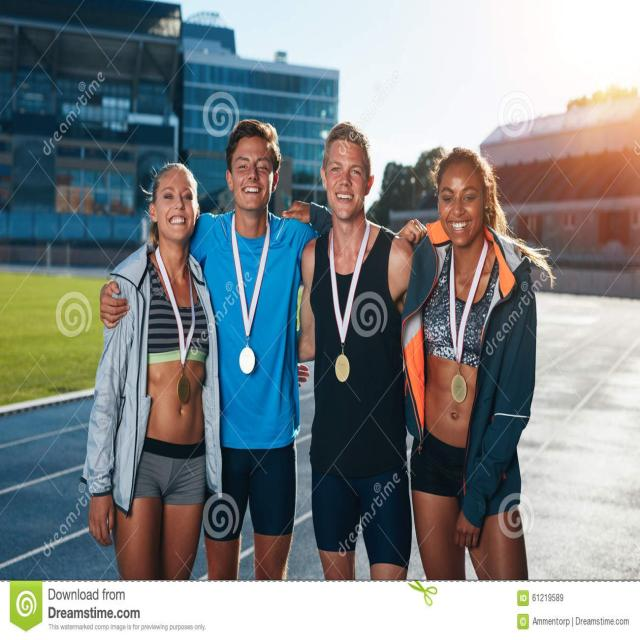body: (398, 141, 556, 581), (185, 117, 324, 581), (77, 159, 226, 581), (297, 119, 413, 580)
